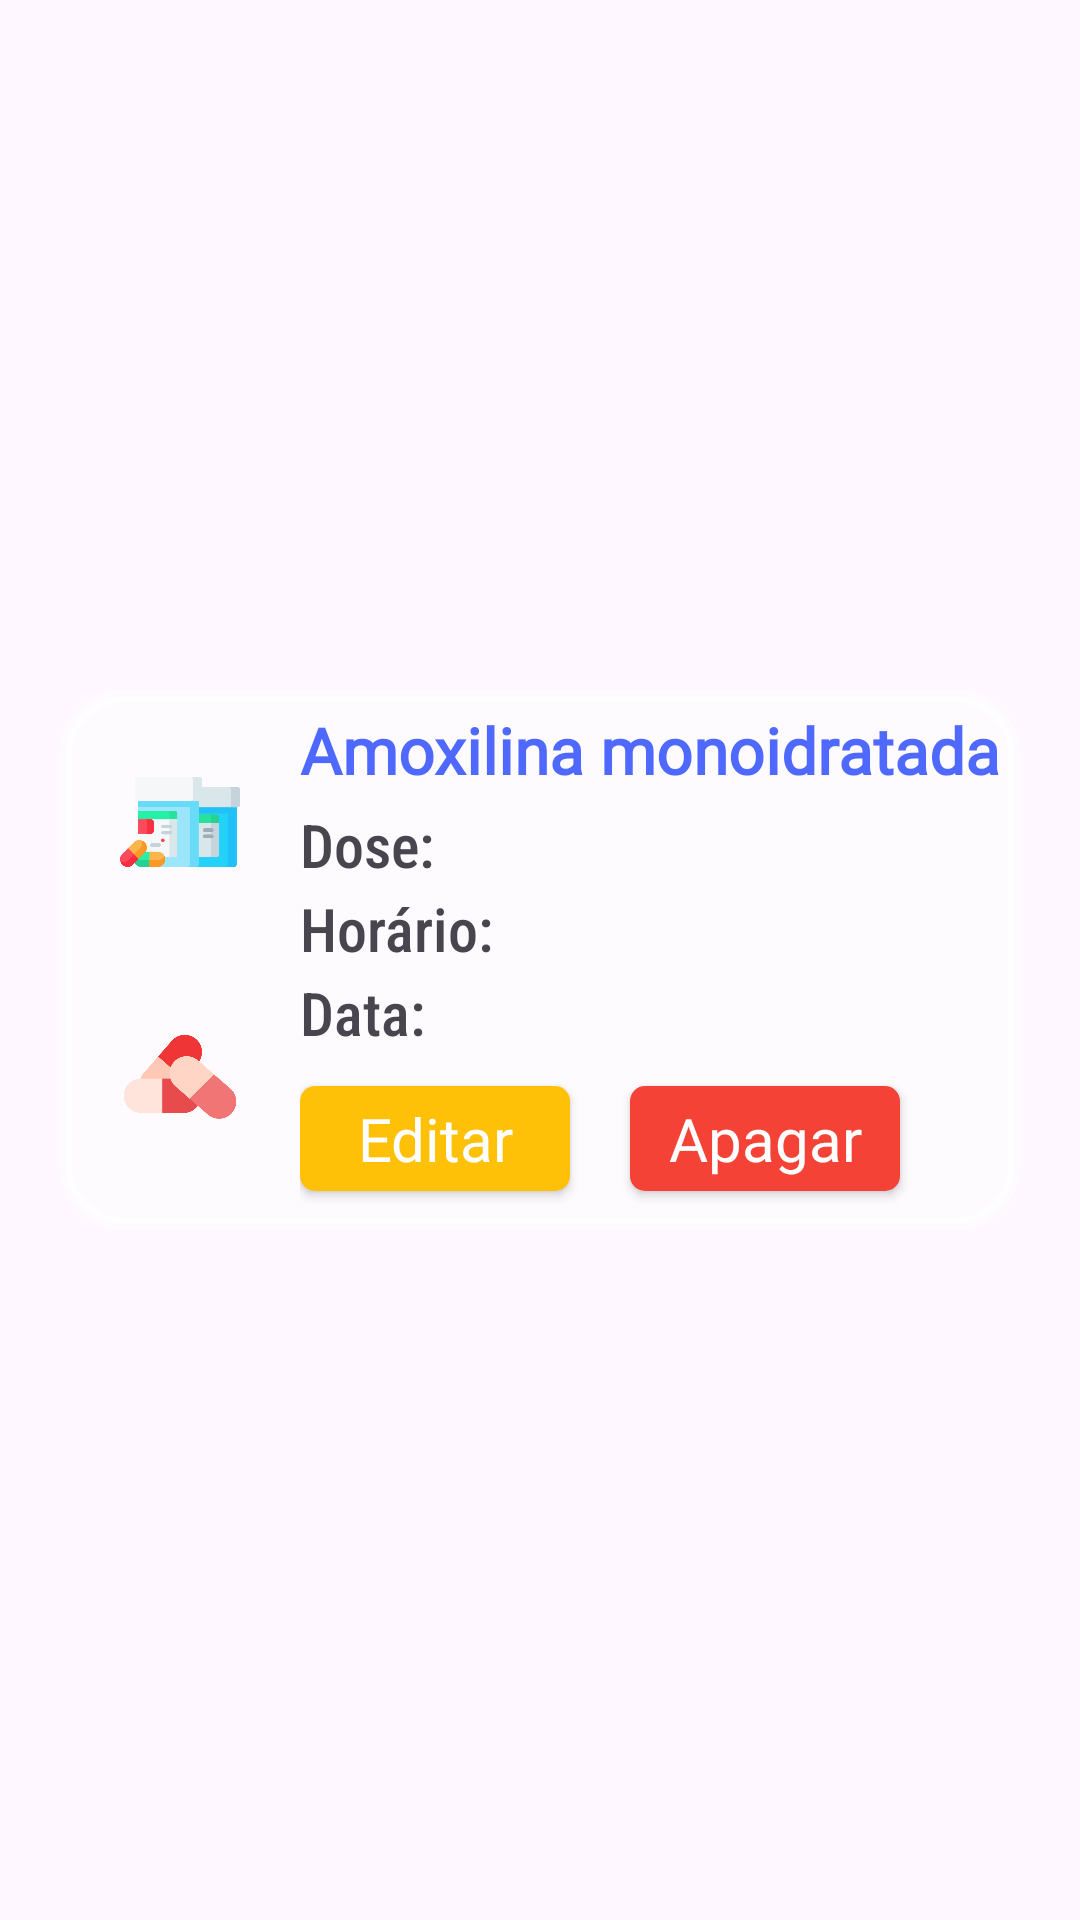

Locate icon controls on the screen. Image size 1080w x 1920h, boxes as bbox=[x1, y1, x2, y2].
medicamento home: bbox=[120, 777, 240, 867]
pill type: bbox=[124, 1035, 236, 1119]
